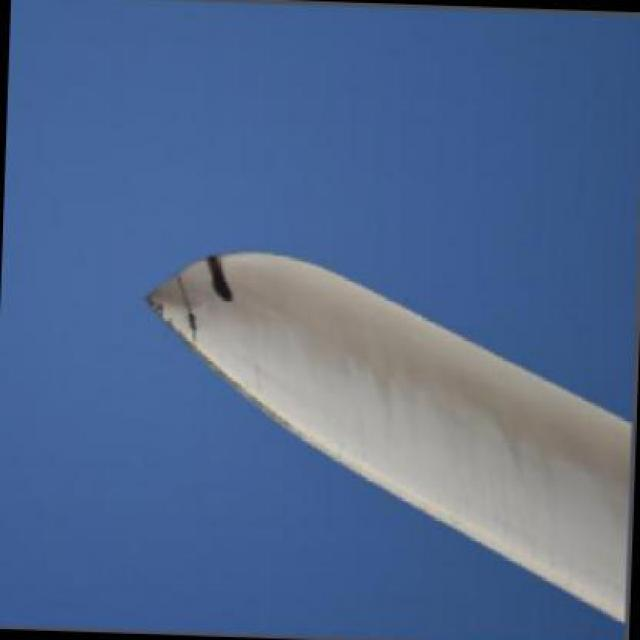Burn Mark: (206, 254, 239, 301)
Crack: (170, 268, 201, 347)
